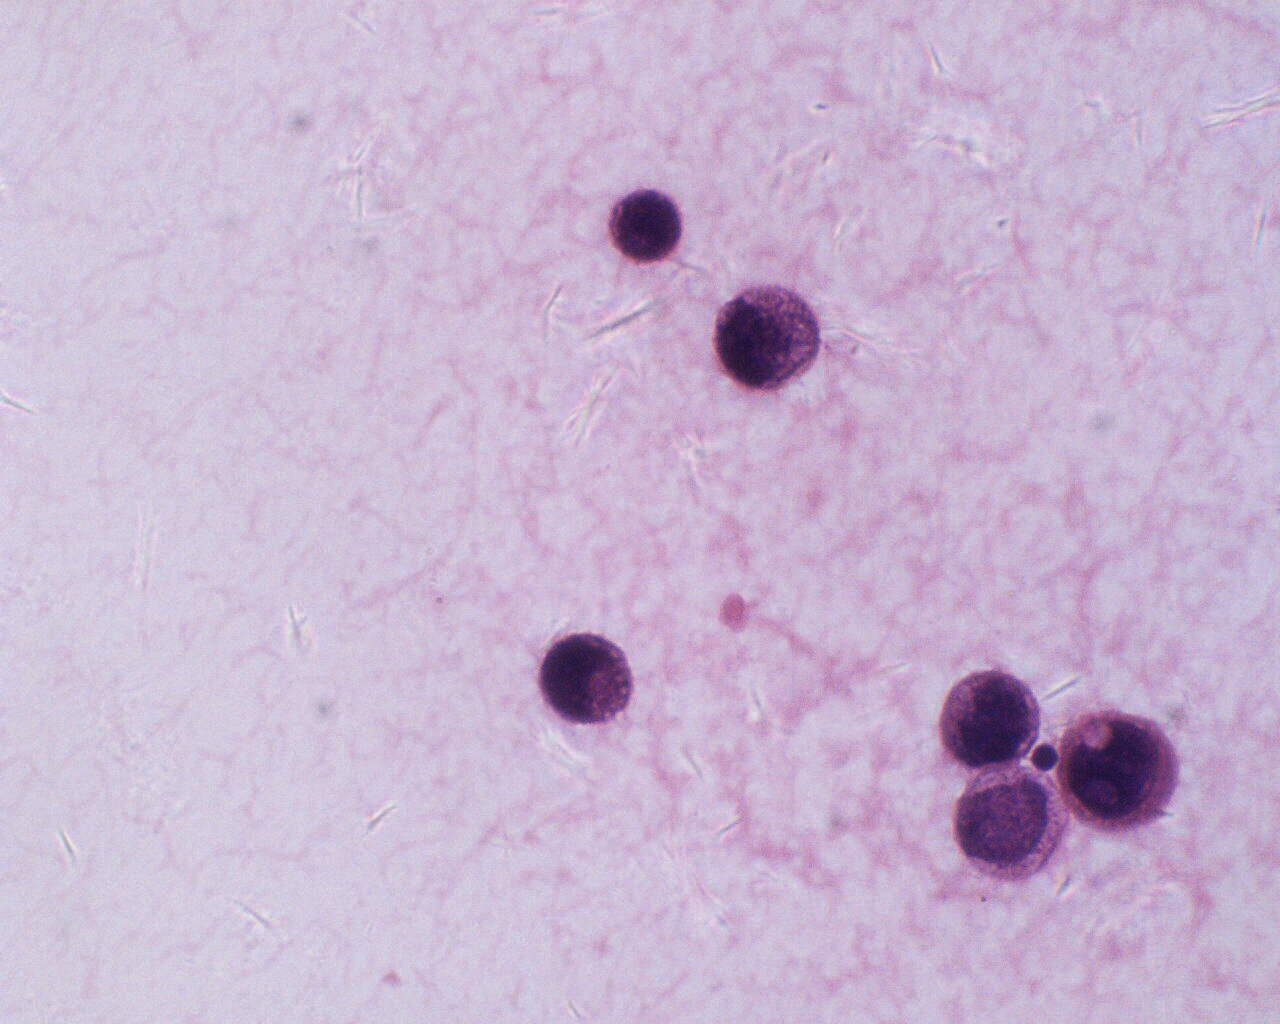ab: (1057, 708, 1180, 839), (946, 761, 1070, 884), (713, 277, 819, 398), (935, 664, 1045, 769), (535, 632, 638, 731), (601, 185, 690, 266)
